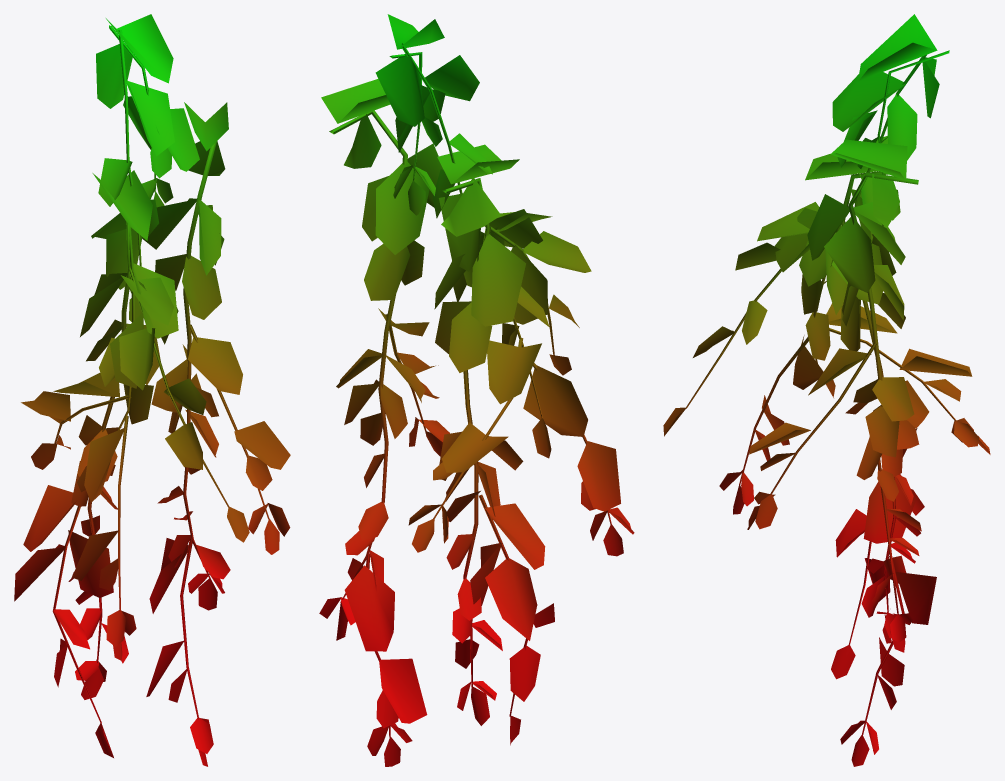
File: Var12_LOD3.fbx
The picture shows the model from 3 angles, left to right: view 1: azimuth 30°, elevation 25°; view 2: azimuth 150°, elevation 25°; view 3: azimuth 270°, elevation 25°; orthographic projection. The views are drawn at different scales.
Visible parts, largest first — view 1: _lwrm_Var12_LOD3; view 2: _lwrm_Var12_LOD3; view 3: _lwrm_Var12_LOD3.
Part boxes in pixels (x1,y1,x2,y2): _lwrm_Var12_LOD3: (14,14,290,766); _lwrm_Var12_LOD3: (319,14,634,766); _lwrm_Var12_LOD3: (663,14,990,766).
Bounding box in the file's own units: 23.68 × 76.94 × 31.72.
